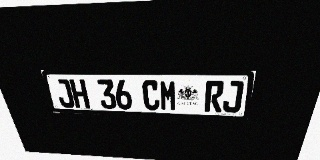3: (97, 79, 117, 109)
6: (113, 80, 133, 110)
C: (142, 80, 160, 110)
H: (69, 79, 90, 108)
J: (222, 81, 244, 113), (54, 79, 75, 108)
M: (159, 80, 177, 111)
R: (204, 80, 225, 112)
